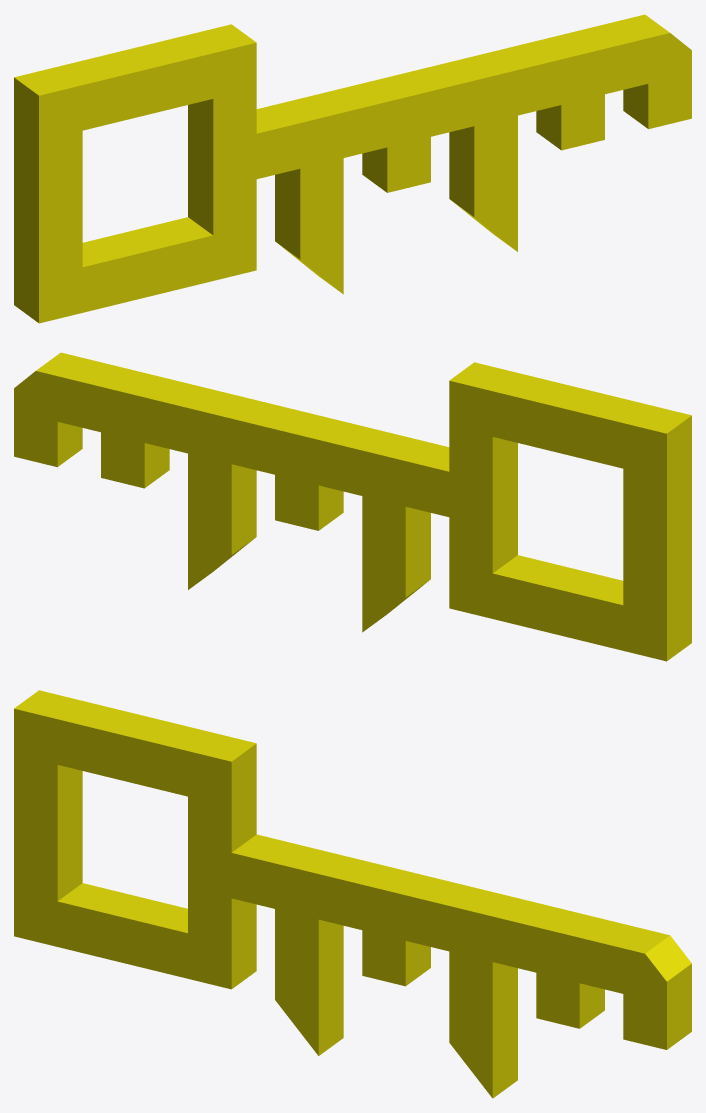
Rendered from Items.fbx_Key_23.fbx.
The picture shows the model from 3 angles, top to bottom: view 1: azimuth 30°, elevation 25°; view 2: azimuth 150°, elevation 25°; view 3: azimuth 330°, elevation 25°; orthographic projection.
Visible parts, largest first — view 1: Key 23; view 2: Key 23; view 3: Key 23.
Part boxes in pixels (x1,y1,x2,y2): Key 23: (14,14,691,323); Key 23: (14,352,691,661); Key 23: (14,690,691,1098).
Bounding box in the file's own units: 0.3 × 0.12 × 0.02.
